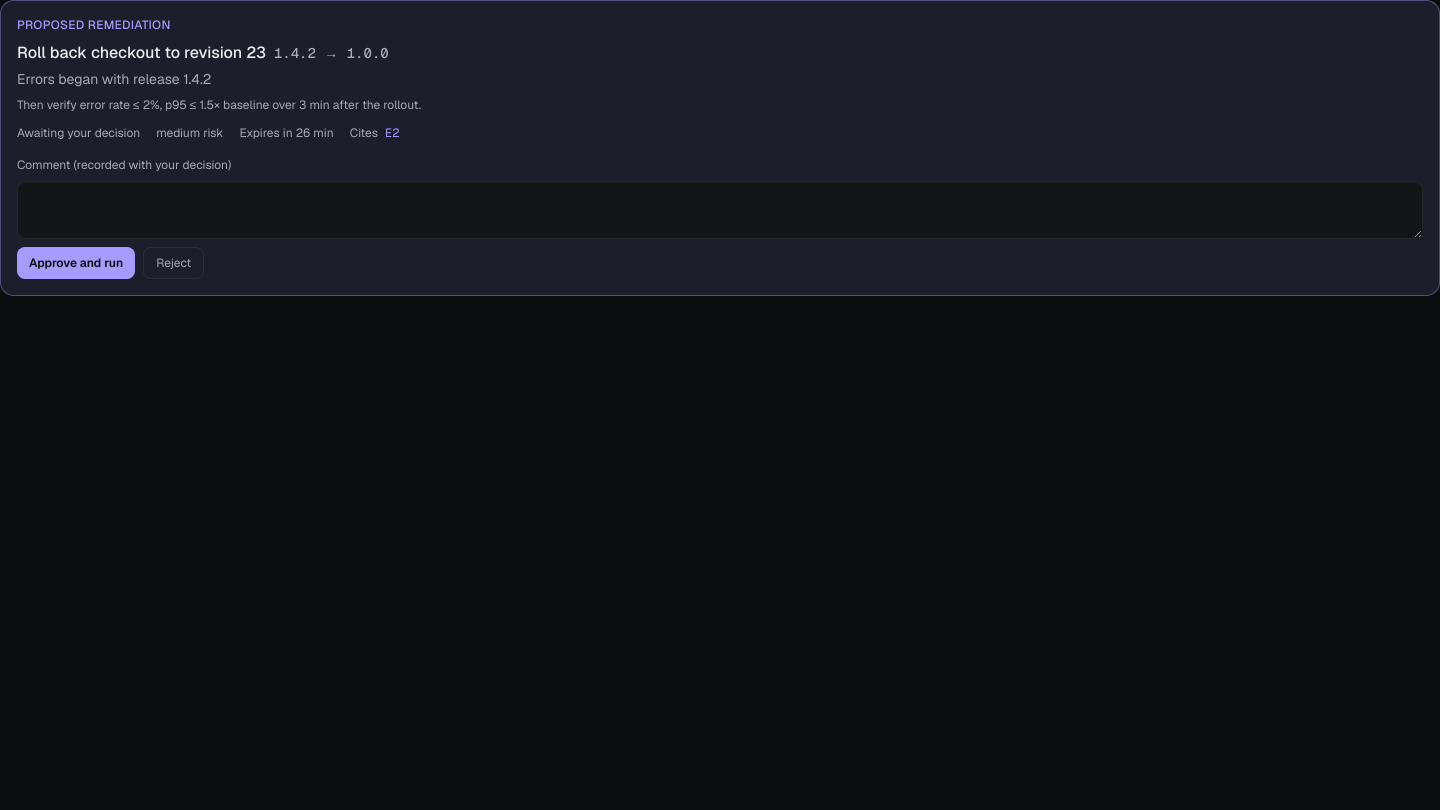
RemediationReview › approves the version on screen with the comment
Type "Roll back now" into the text box labelled "Comment (recorded with your decision)". click: (720, 210)
box: [17,181,1423,239]
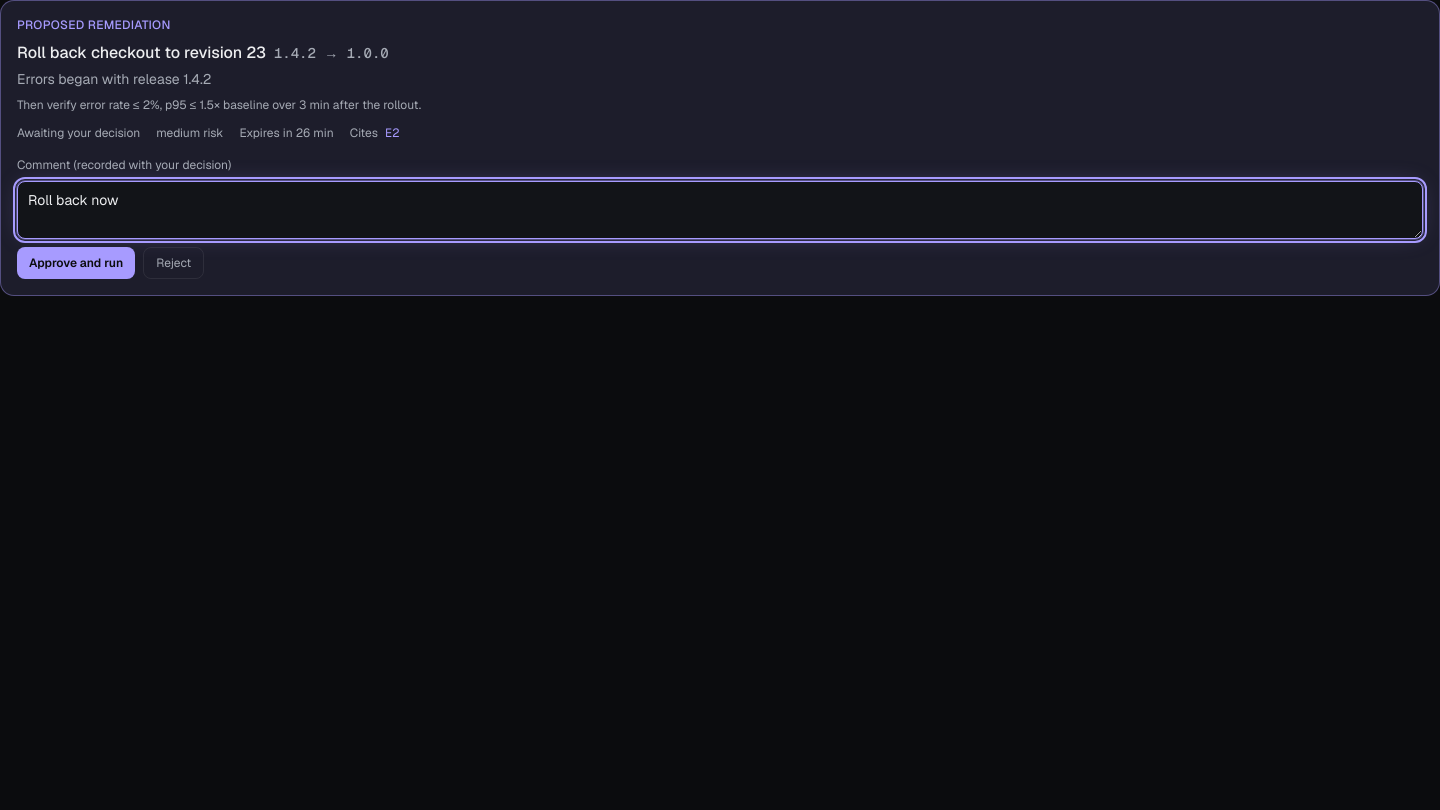
Click the button "Approve and run". click: (76, 263)
box: [17,247,135,279]
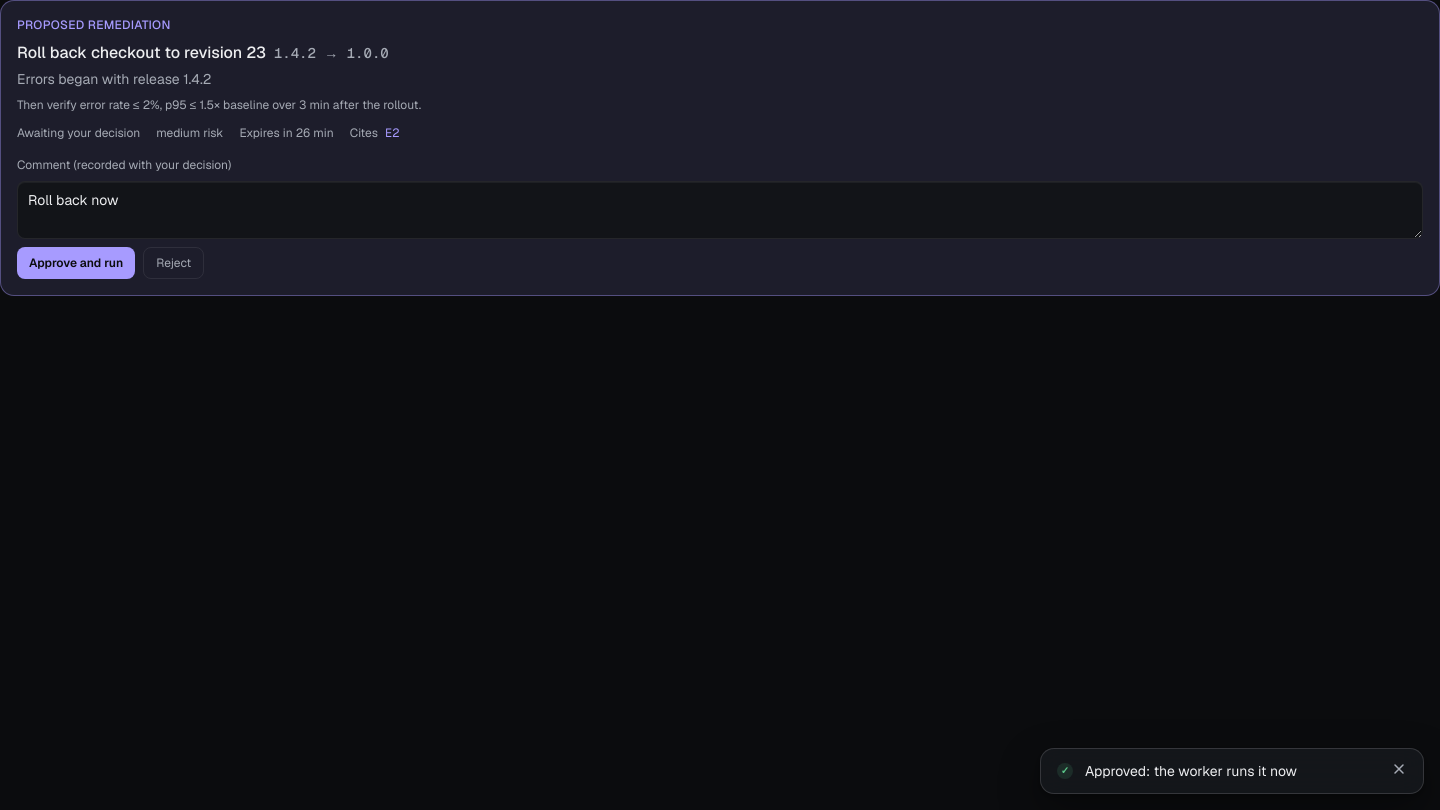
Result: the text "Approved: the worker runs it now" is shown at [1085,762,1297,780]
